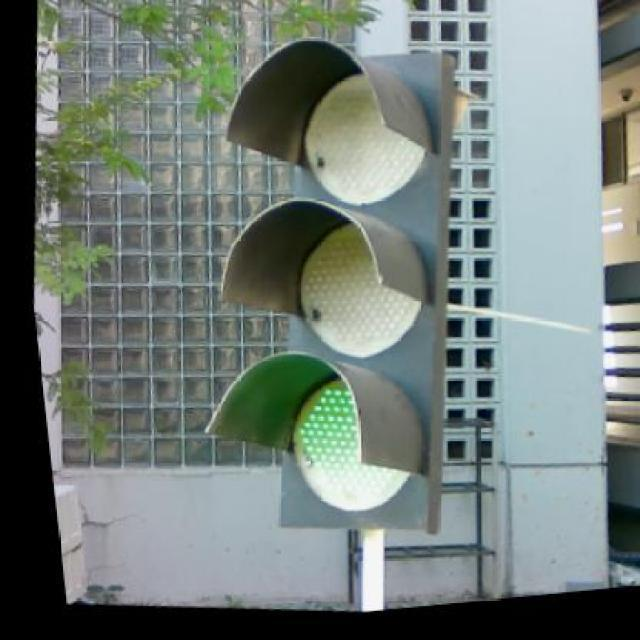Lampu Hijau: (159, 33, 488, 556)
